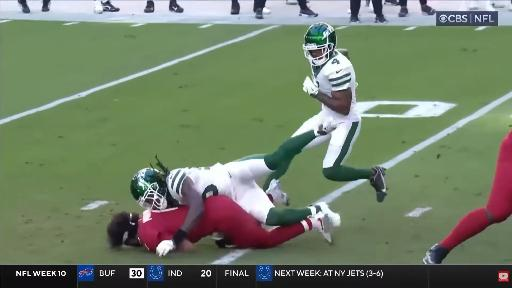Helmet: (131, 168, 168, 210), (303, 23, 336, 65)
Jersey: (312, 51, 360, 121), (167, 164, 233, 204), (138, 206, 188, 251)
Player: (131, 119, 340, 245), (293, 23, 386, 202), (107, 196, 332, 256), (423, 131, 511, 263)
